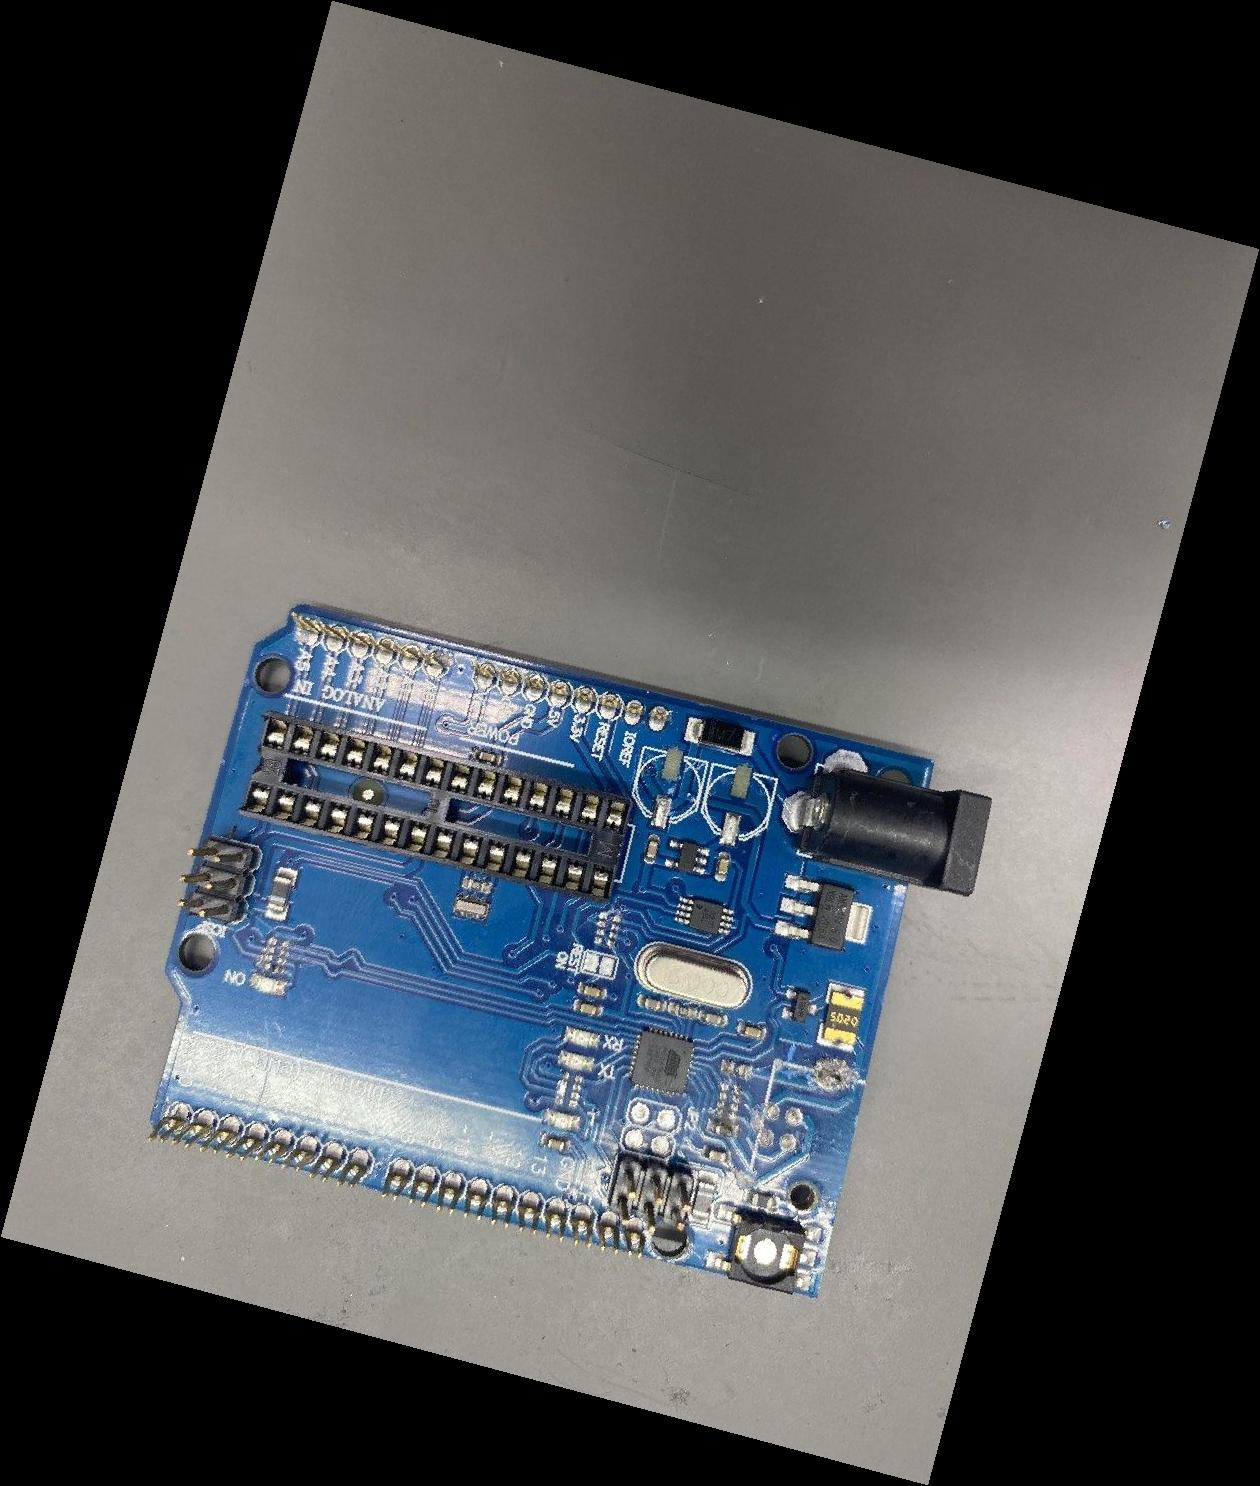Arduino board: (147, 605, 992, 1299)
